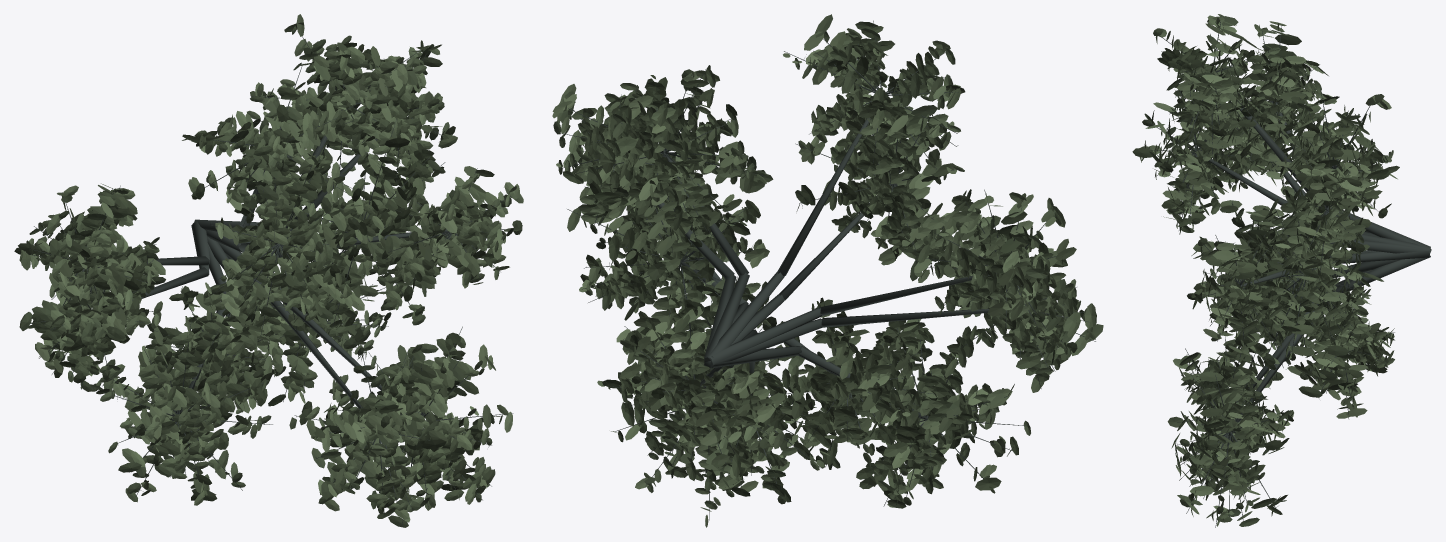
File: tree_m14.obj
The picture shows the model from 3 angles, left to right: view 1: azimuth 30°, elevation 25°; view 2: azimuth 150°, elevation 25°; view 3: azimuth 270°, elevation 25°; orthographic projection. The views are drawn at different scales.
Size of the model in its own units: 1.8 by 1.73 by 1.04.
Materials: 1 (1 with a texture image).
